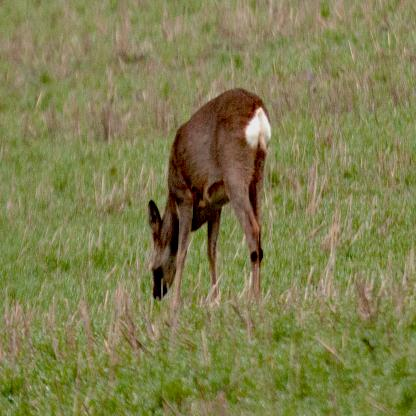Deer: (145, 87, 271, 318)
